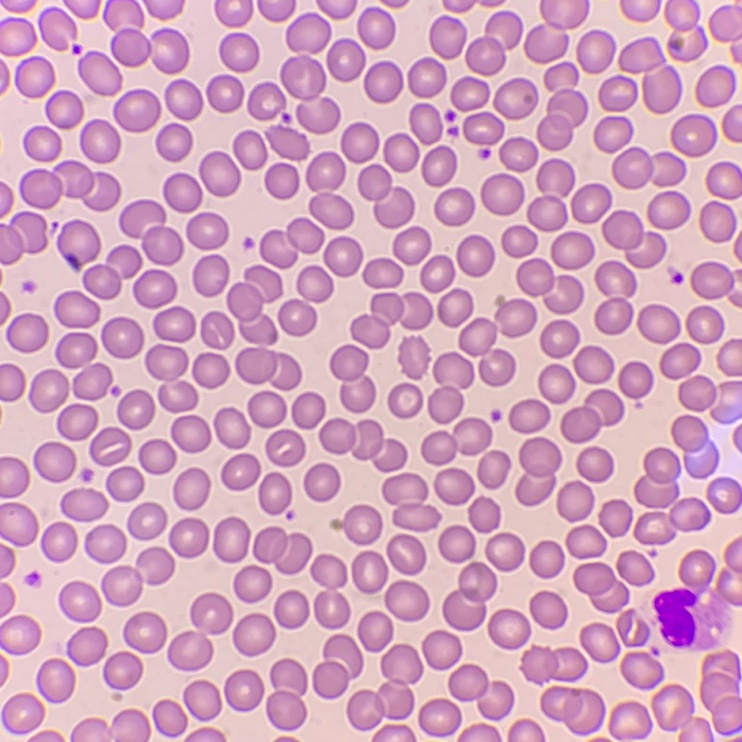RBC: (654, 550, 741, 650), (635, 448, 710, 544), (347, 644, 422, 729), (167, 593, 232, 670), (21, 160, 120, 210), (619, 37, 680, 113), (319, 418, 406, 471), (351, 292, 432, 348), (537, 62, 587, 150), (227, 265, 282, 343), (102, 547, 174, 606), (119, 200, 183, 265), (525, 0, 587, 63), (459, 318, 514, 385), (56, 333, 111, 400), (602, 210, 665, 268), (517, 259, 583, 314), (443, 562, 496, 630), (358, 165, 414, 228), (466, 11, 521, 75), (449, 665, 513, 719), (561, 389, 624, 443), (527, 159, 574, 231), (382, 473, 439, 531), (701, 651, 741, 732), (421, 418, 491, 464), (104, 0, 152, 66), (260, 218, 323, 268), (428, 353, 473, 423), (83, 245, 141, 299), (313, 635, 362, 698), (652, 685, 707, 741), (330, 345, 375, 412), (541, 687, 605, 734), (595, 261, 636, 334), (516, 437, 560, 505), (612, 147, 684, 188), (266, 659, 307, 729), (311, 554, 349, 628), (253, 527, 311, 574), (236, 348, 301, 389), (574, 563, 628, 612), (70, 710, 149, 741), (0, 211, 46, 264), (522, 646, 587, 683), (665, 0, 705, 60), (58, 220, 100, 270), (280, 55, 325, 101), (114, 89, 160, 132), (78, 52, 121, 95), (671, 114, 715, 156), (199, 152, 240, 196), (233, 613, 275, 655), (494, 78, 537, 119), (123, 612, 166, 653), (385, 581, 429, 621), (101, 317, 143, 358), (481, 174, 523, 214), (488, 609, 530, 649), (81, 120, 120, 163), (29, 369, 68, 412), (286, 14, 330, 52), (1, 694, 43, 733), (133, 270, 176, 308), (36, 659, 74, 702), (309, 192, 353, 229), (213, 517, 249, 562), (60, 582, 100, 622), (34, 442, 75, 481), (648, 191, 690, 229), (638, 305, 680, 343), (6, 314, 48, 352), (577, 30, 614, 73), (327, 38, 364, 81), (551, 232, 594, 269), (0, 503, 37, 546), (418, 699, 461, 736), (55, 291, 99, 327), (90, 427, 130, 466), (364, 61, 402, 102), (85, 525, 126, 563), (691, 262, 734, 298), (296, 98, 340, 133), (572, 184, 611, 223), (169, 518, 208, 557), (422, 631, 461, 670), (696, 66, 734, 106), (387, 534, 425, 574), (225, 670, 263, 710), (457, 235, 494, 276), (609, 702, 650, 739), (186, 213, 228, 249), (145, 345, 187, 381), (352, 551, 387, 594), (621, 653, 664, 688), (408, 58, 446, 97), (163, 173, 201, 212), (324, 237, 362, 276), (540, 320, 579, 358), (343, 505, 381, 544), (0, 616, 39, 654), (67, 627, 106, 665), (165, 79, 202, 119), (434, 188, 474, 225), (496, 299, 536, 336), (183, 680, 220, 720), (61, 489, 107, 521), (153, 306, 195, 341), (220, 33, 258, 71), (580, 623, 618, 661), (357, 9, 394, 48), (17, 58, 54, 97), (46, 90, 83, 129), (341, 123, 378, 162), (306, 152, 345, 189), (574, 346, 613, 383), (117, 390, 154, 429), (171, 415, 210, 452), (266, 429, 305, 466), (103, 652, 142, 689), (57, 404, 97, 440), (557, 481, 593, 521), (430, 17, 465, 58), (193, 255, 228, 296), (174, 468, 209, 509), (267, 126, 309, 160), (155, 30, 188, 73), (128, 503, 166, 540), (486, 533, 524, 570), (538, 364, 574, 403), (221, 454, 260, 490), (660, 343, 700, 378), (215, 408, 250, 448), (434, 469, 474, 504), (393, 227, 430, 264), (207, 74, 243, 112), (599, 75, 637, 111), (247, 83, 285, 119), (278, 299, 316, 335), (248, 391, 286, 427), (700, 202, 735, 241), (422, 146, 456, 186), (594, 116, 631, 152), (156, 124, 192, 161), (687, 306, 723, 343), (304, 464, 340, 501), (234, 566, 271, 602), (530, 592, 567, 628), (384, 134, 419, 172), (678, 376, 716, 411), (106, 466, 144, 501), (42, 522, 77, 560), (358, 612, 392, 651), (509, 399, 549, 432), (566, 525, 606, 558), (410, 103, 442, 144), (259, 473, 291, 514), (439, 526, 475, 562), (437, 289, 472, 326), (138, 439, 175, 474), (274, 590, 308, 628), (463, 112, 503, 144), (618, 362, 653, 398), (577, 447, 613, 482), (500, 137, 537, 171), (707, 162, 741, 199), (420, 255, 454, 292), (672, 415, 706, 452), (451, 77, 489, 110), (233, 131, 266, 169), (25, 126, 60, 161), (297, 266, 332, 301), (193, 353, 229, 387), (530, 541, 564, 577), (617, 551, 653, 585), (388, 383, 422, 418), (707, 478, 741, 513), (152, 700, 186, 735), (617, 610, 650, 646), (478, 451, 510, 488), (599, 499, 631, 536), (0, 22, 35, 55), (265, 163, 298, 198), (292, 393, 325, 428), (201, 312, 233, 348), (399, 337, 427, 378), (40, 11, 70, 49), (363, 258, 402, 287), (158, 382, 197, 411), (502, 225, 537, 257), (0, 457, 28, 497), (710, 5, 741, 40), (469, 498, 499, 532), (215, 0, 252, 26), (0, 364, 24, 401), (257, 0, 295, 21), (725, 539, 741, 586), (620, 0, 654, 21), (145, 0, 183, 18), (318, 0, 356, 18), (723, 104, 741, 142), (373, 725, 415, 741), (459, 725, 500, 741), (65, 0, 99, 17), (508, 720, 533, 741), (187, 728, 224, 741), (690, 459, 715, 478), (0, 583, 14, 615), (0, 546, 14, 577), (0, 183, 12, 215), (718, 359, 741, 375), (31, 731, 61, 741), (0, 294, 9, 322), (721, 381, 741, 393), (712, 404, 728, 419), (0, 659, 7, 682), (733, 427, 741, 447), (732, 45, 741, 61), (0, 63, 8, 81), (459, 0, 473, 10), (734, 238, 741, 256), (385, 0, 405, 6), (729, 339, 741, 349), (732, 294, 741, 306), (481, 0, 501, 5), (1, 0, 13, 8), (671, 272, 680, 282), (81, 470, 89, 479), (535, 733, 544, 741), (331, 520, 339, 528), (279, 737, 291, 741)
